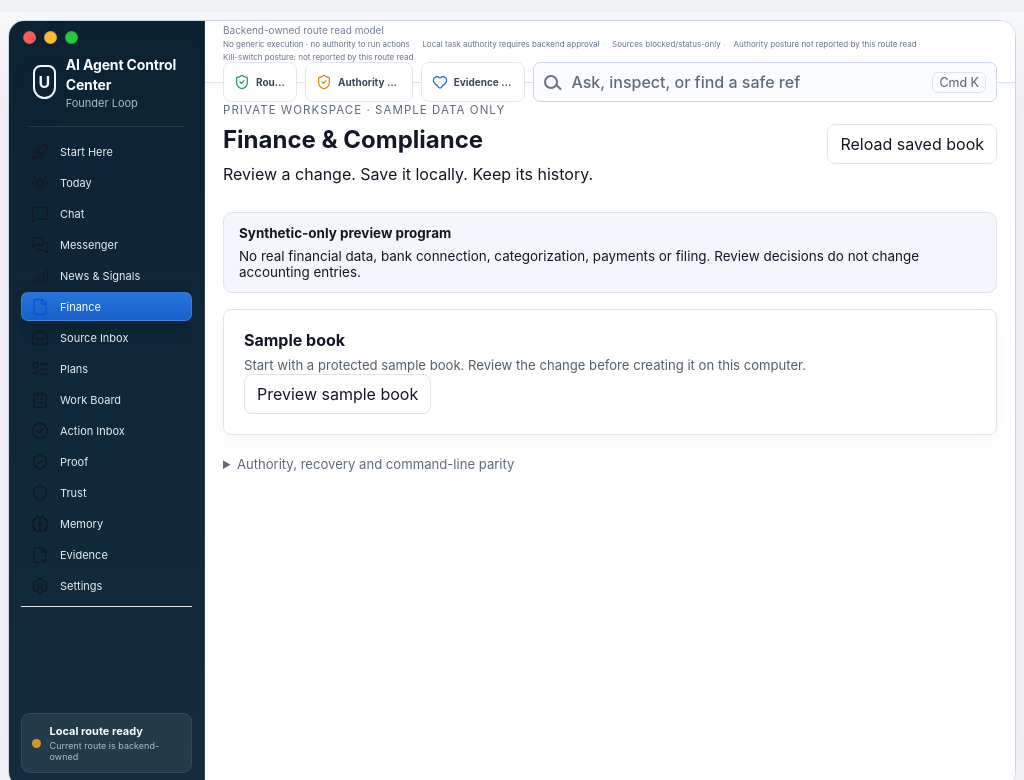
Test: Finance workspace › previews setup, then separately confirms creation
Step 1. Click the button "Preview sample book" → (338, 394), box [244, 374, 431, 414]
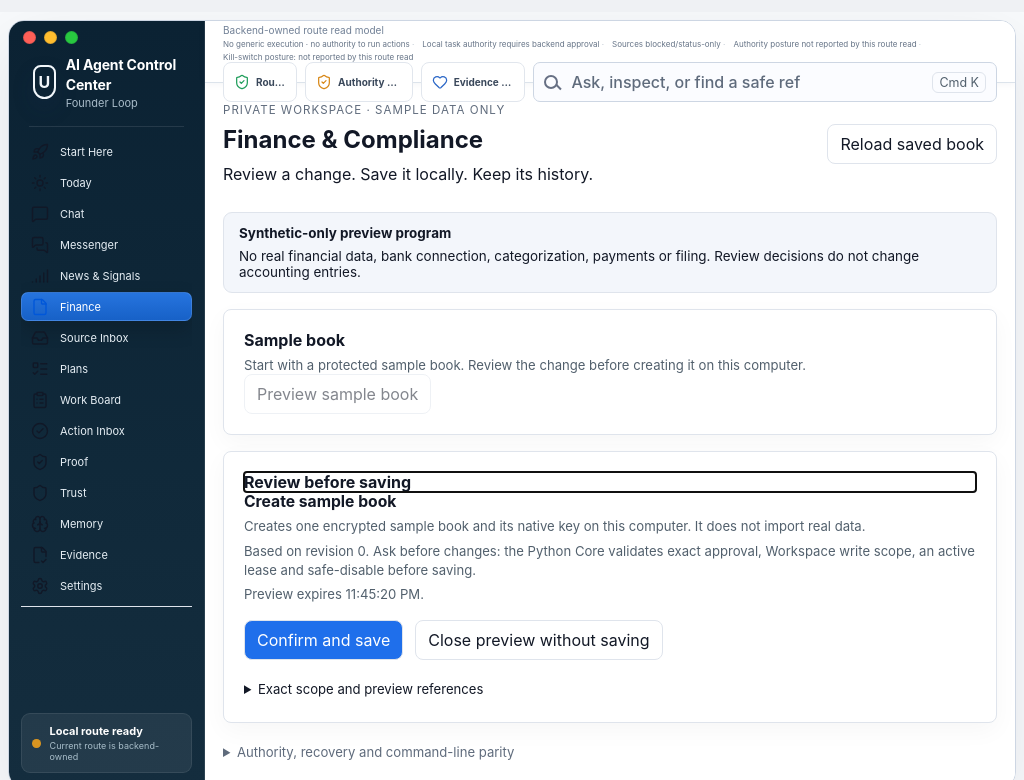
Step 2. Click the button "Confirm and save" → (324, 640), box [244, 620, 403, 660]
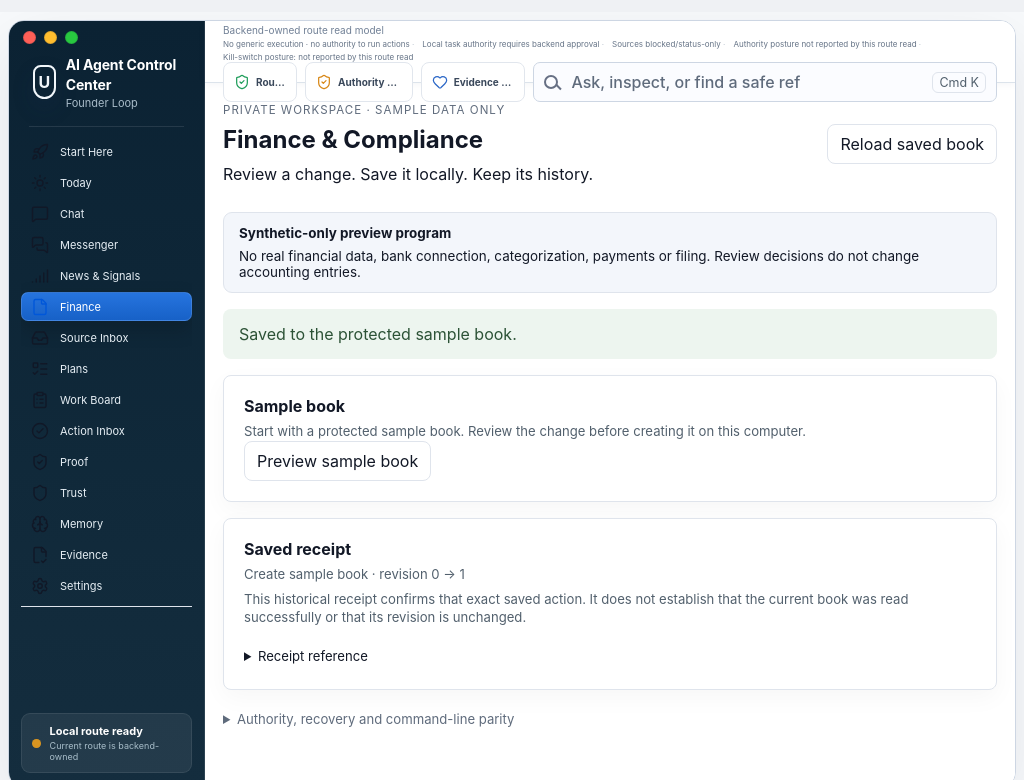
Expected: the heading "Saved receipt" is shown, [244, 539, 351, 559]
